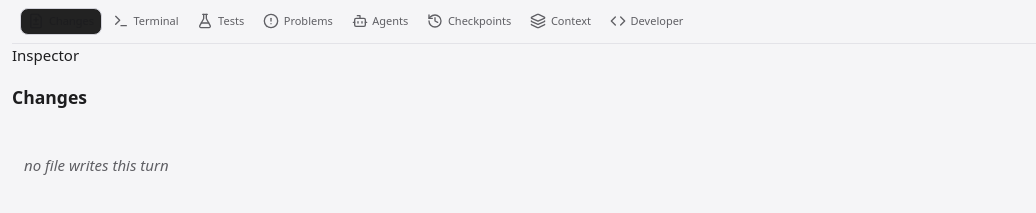
Test: AgentPanel › the Developer tab names the provenance contract
Step 1. Click the tab "Developer" → [647, 21], box [602,8,692,34]
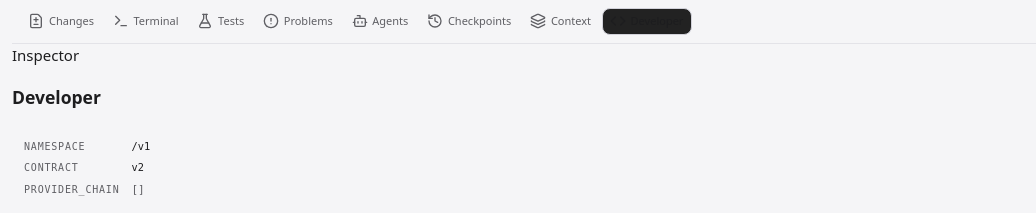
Result: the panel shows "/v1" at [132,140,150,152]
Result: the panel shows "v2" at [24,140,150,196]
Result: the panel shows "provider_chain" at [24,184,120,194]
